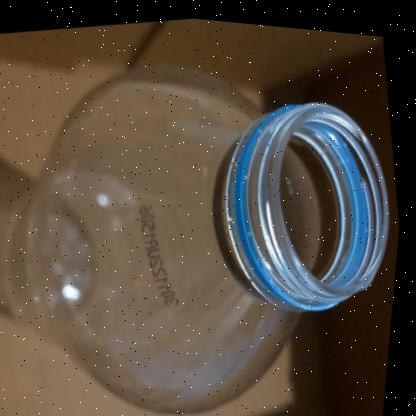open bottle: (6, 3, 416, 416)
